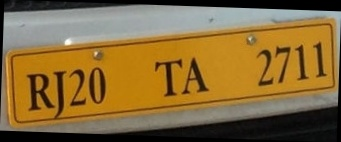character: (25, 72, 57, 111), (152, 57, 182, 97), (181, 56, 209, 94), (51, 69, 68, 121), (68, 67, 88, 106), (87, 66, 106, 105), (255, 48, 274, 86), (273, 45, 292, 83), (312, 39, 328, 78), (293, 43, 308, 82)
